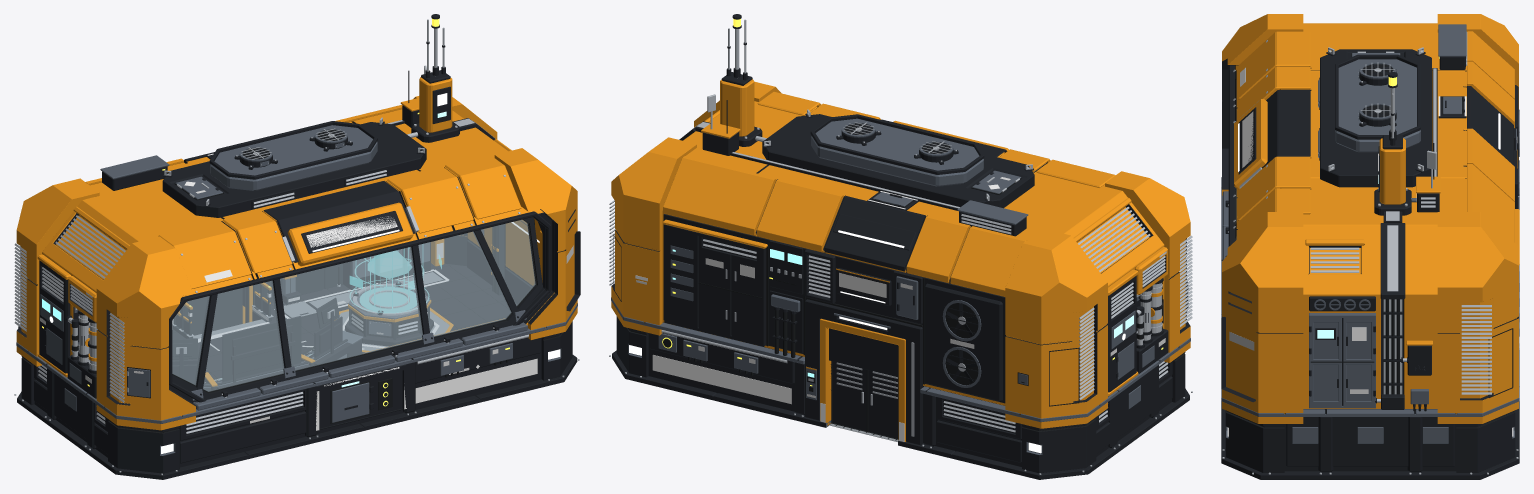
The model's file is SM_CommandCenter.glb.
3 renders of one model, left to right at view 1: azimuth 30°, elevation 25°; view 2: azimuth 150°, elevation 25°; view 3: azimuth 270°, elevation 25°, orthographic. The views are drawn at different scales.
Parts seen in each view (by area): view 1: WINDOW_GLASS, MAIN_SHELL, CORNER_ARMOR_-1-1, CORNER_ARMOR_+1-1, ROOF, FLOOR, BASE, CORNER_ARMOR_-1+1, ROOF_top, BASE_platform, FRONT_BAND_0, FRONT_BAND_2 (+42 smaller); view 2: CORNER_ARMOR_-1+1, MAIN_SHELL, CORNER_ARMOR_+1+1, BACK_POWER_CABINET, ROOF, BACK_PANEL_bg, BACK_BAND_section_3, BACK_COOLING, ROOF_top, CORNER_ARMOR_-1-1, BASE_platform, BACK_SERVICE_MODULE (+39 smaller); view 3: MAIN_SHELL, CORNER_ARMOR_+1-1, CORNER_ARMOR_+1+1, ROOF, RIGHT_CABINET, ROOF_top, BASE_PANELS_R1_0, BASE_platform, FRONT_BAND_visor_seat, CORNER_ARMOR_-1-1, BASE_CORNER_+1+1, BASE_CORNER_+1-1 (+44 smaller).
Boxes of the visible parts, bbox=[...] form: WINDOW_GLASS: bbox=[172, 220, 535, 391]; MAIN_SHELL: bbox=[42, 109, 554, 405]; CORNER_ARMOR_-1-1: bbox=[96, 236, 195, 430]; CORNER_ARMOR_+1-1: bbox=[494, 148, 580, 339]; ROOF: bbox=[162, 122, 426, 218]; FLOOR: bbox=[172, 263, 516, 378]; BASE: bbox=[34, 235, 541, 467]; CORNER_ARMOR_-1+1: bbox=[16, 178, 99, 366]; ROOF_top: bbox=[210, 125, 377, 190]; BASE_platform: bbox=[17, 355, 577, 479]; FRONT_BAND_0: bbox=[158, 220, 251, 288]; FRONT_BAND_2: bbox=[387, 166, 473, 233]; CORNER_ARMOR_-1+1: bbox=[1005, 228, 1107, 428]; MAIN_SHELL: bbox=[662, 95, 1164, 405]; CORNER_ARMOR_+1+1: bbox=[611, 137, 696, 335]; BACK_POWER_CABINET: bbox=[664, 224, 766, 346]; ROOF: bbox=[762, 114, 1034, 208]; BACK_PANEL_bg: bbox=[663, 214, 1005, 403]; BACK_BAND_section_3: bbox=[663, 156, 776, 235]; BACK_COOLING: bbox=[924, 283, 1002, 401]; ROOF_top: bbox=[811, 118, 983, 186]; CORNER_ARMOR_-1-1: bbox=[1105, 171, 1190, 362]; BASE_platform: bbox=[612, 350, 1189, 479]; BACK_SERVICE_MODULE: bbox=[805, 299, 922, 445]; MAIN_SHELL: bbox=[1235, 23, 1466, 408]; CORNER_ARMOR_+1-1: bbox=[1221, 212, 1303, 423]; CORNER_ARMOR_+1+1: bbox=[1437, 212, 1518, 423]; ROOF: bbox=[1320, 49, 1431, 187]; RIGHT_CABINET: bbox=[1309, 313, 1375, 408]; ROOF_top: bbox=[1335, 59, 1420, 152]; BASE_PANELS_R1_0: bbox=[1332, 417, 1408, 466]; BASE_platform: bbox=[1221, 401, 1519, 479]; FRONT_BAND_visor_seat: bbox=[1262, 90, 1310, 168]; CORNER_ARMOR_-1-1: bbox=[1222, 14, 1303, 195]; BASE_CORNER_+1+1: bbox=[1456, 410, 1515, 472]; BASE_CORNER_+1-1: bbox=[1225, 410, 1284, 472].
Bounding box in the file's own units: 16 × 10.69 × 8.
